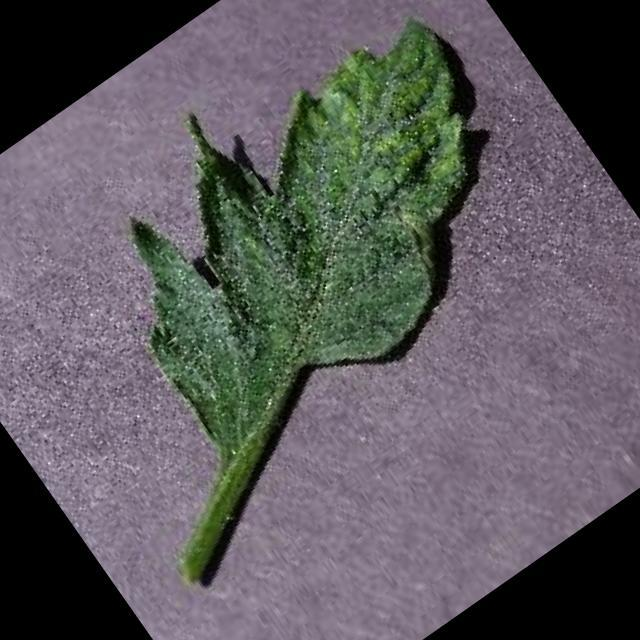Tomato mosaic virus leaf: (41, 0, 581, 476)
